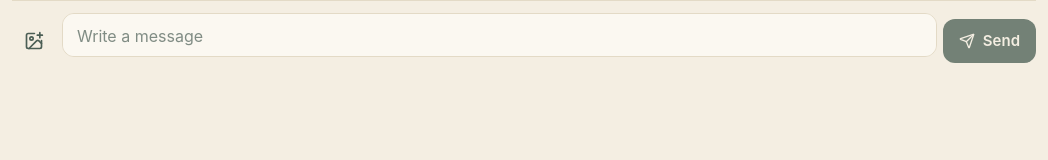
Composer › offers members after @ and inserts the chosen username on Enter
Type "Hey @bo" into the text box labelled "message" at (499, 35), box left=62, top=13, right=937, bottom=57
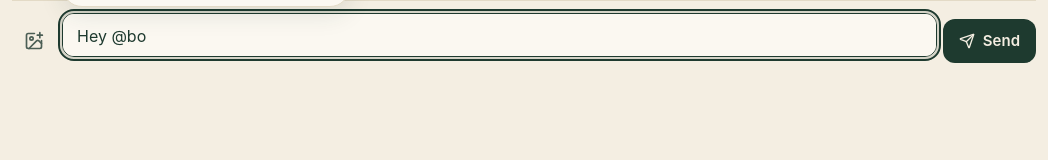
Press Enter
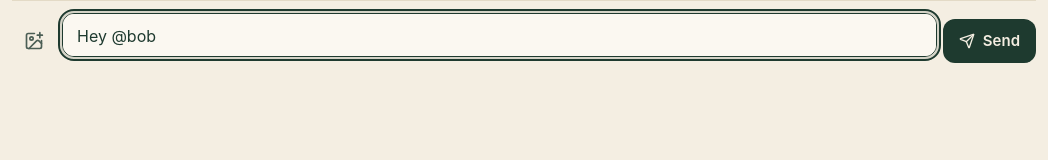
Expected: the text box named "message" holds "Hey @bob ", left=62, top=13, right=937, bottom=57
